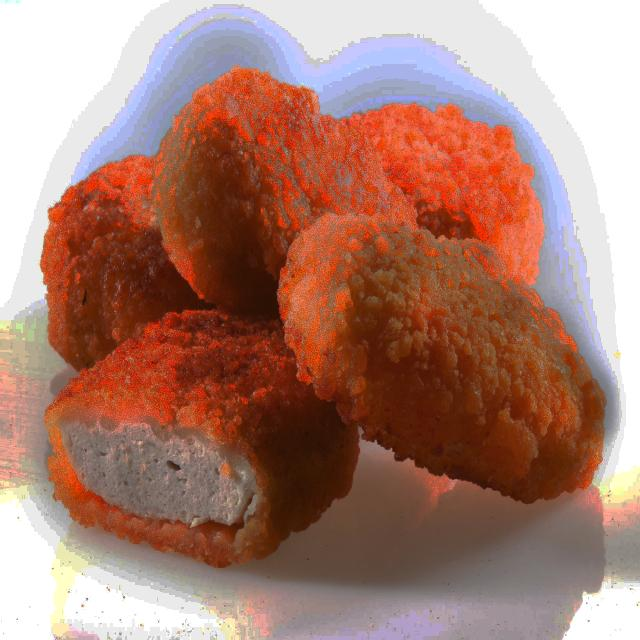chicken_nuggets: (271, 189, 620, 524), (40, 280, 366, 590), (139, 74, 389, 330)
